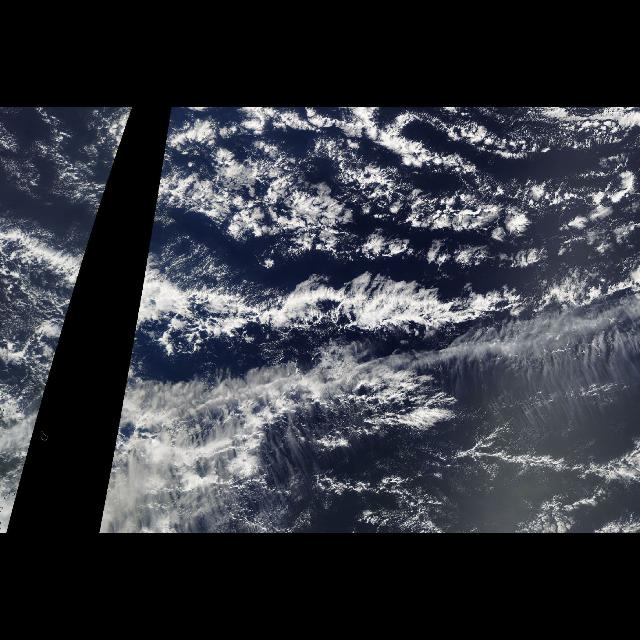Fish: (115, 107, 638, 449), (0, 112, 132, 450)
